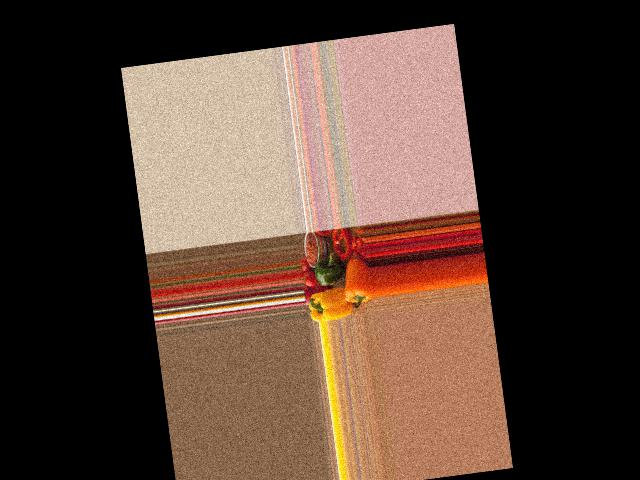bell_pepper: (307, 286, 346, 322)
